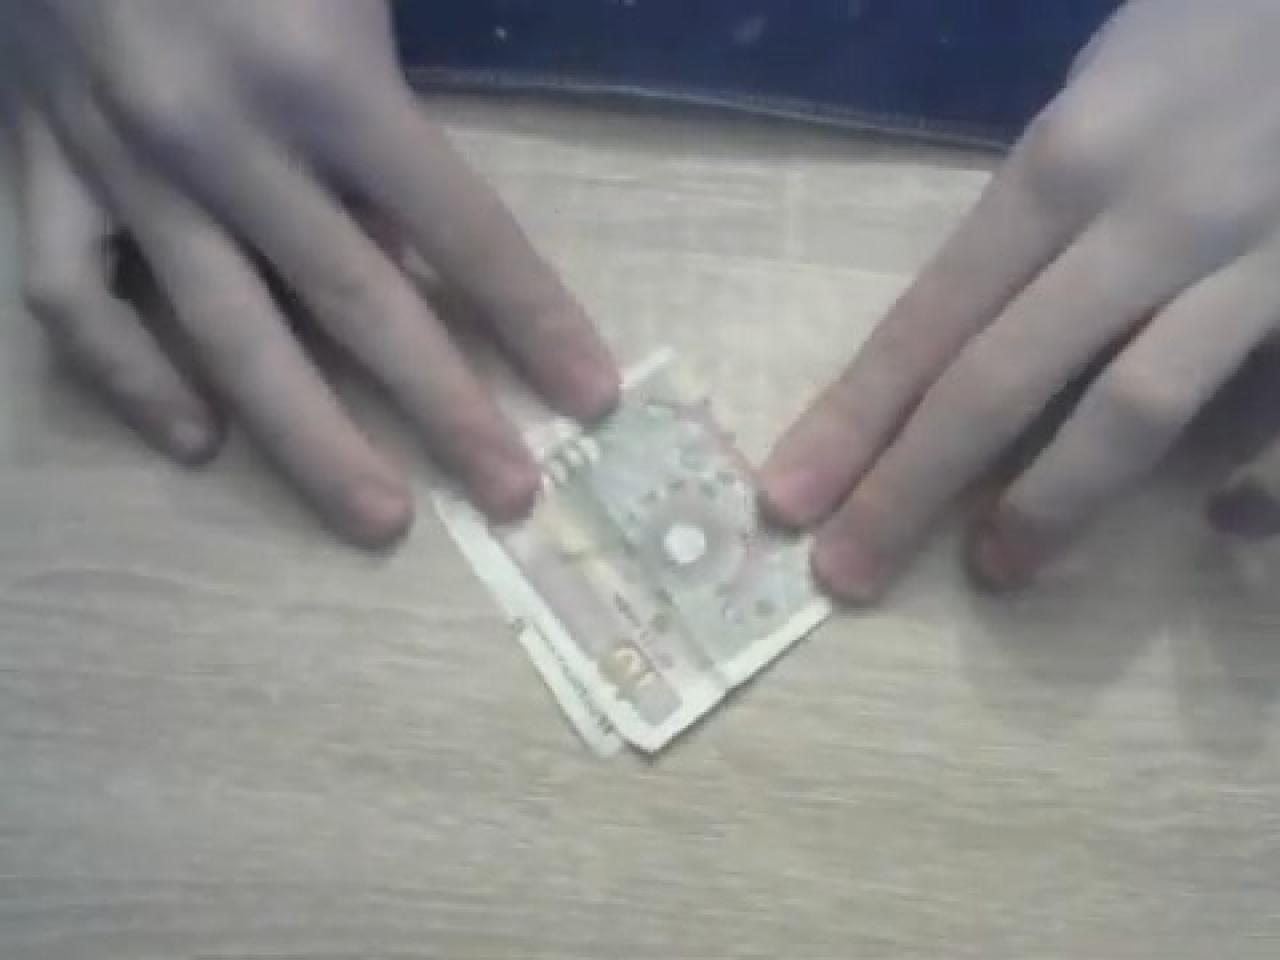10leva: (432, 349, 833, 765)
